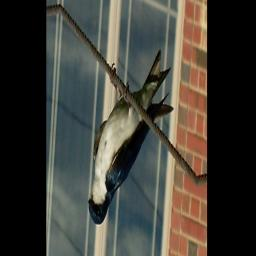Swallow: (86, 17, 178, 256)
